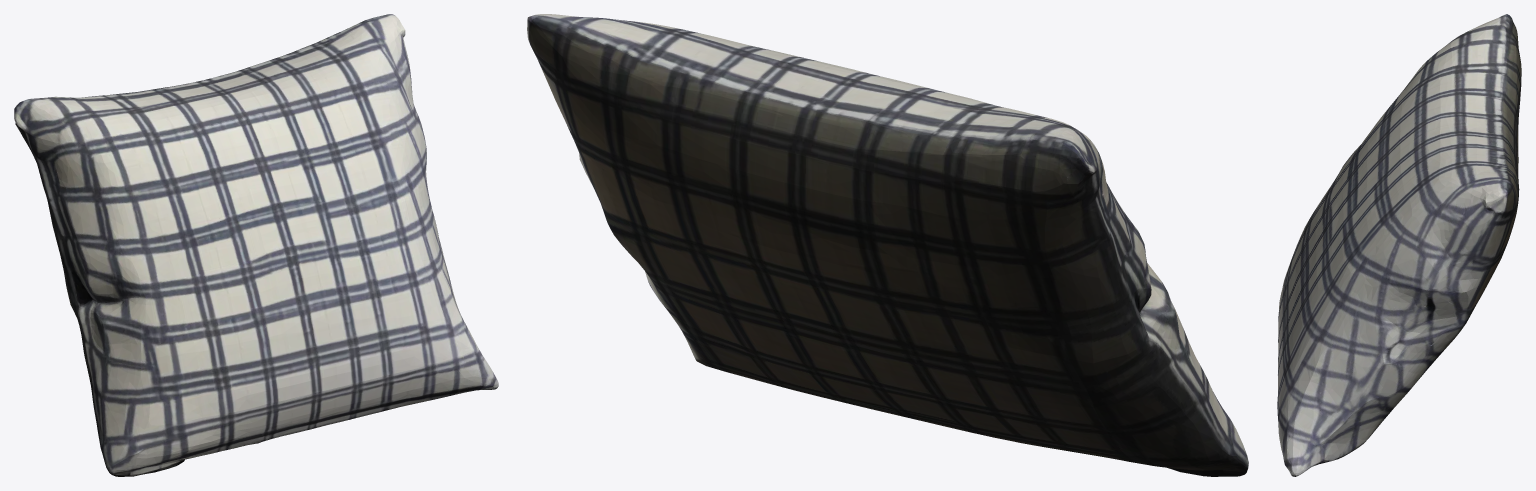
Rendered from a45e76d6-2ff3-48a9-b09c-7971fdc842b4.glb.
3 renders of one model, left to right at view 1: azimuth 30°, elevation 25°; view 2: azimuth 150°, elevation 25°; view 3: azimuth 270°, elevation 25°, orthographic. The views are drawn at different scales.
Visible parts, largest first — view 1: world; view 2: world; view 3: world.
Part boxes in pixels (bbox=[...]): world: bbox=[14, 14, 498, 476]; world: bbox=[527, 14, 1248, 476]; world: bbox=[1277, 14, 1521, 476].
Size of the model in its own units: 0.9997 by 0.7461 by 0.5549.
1 material, 1 textured.
